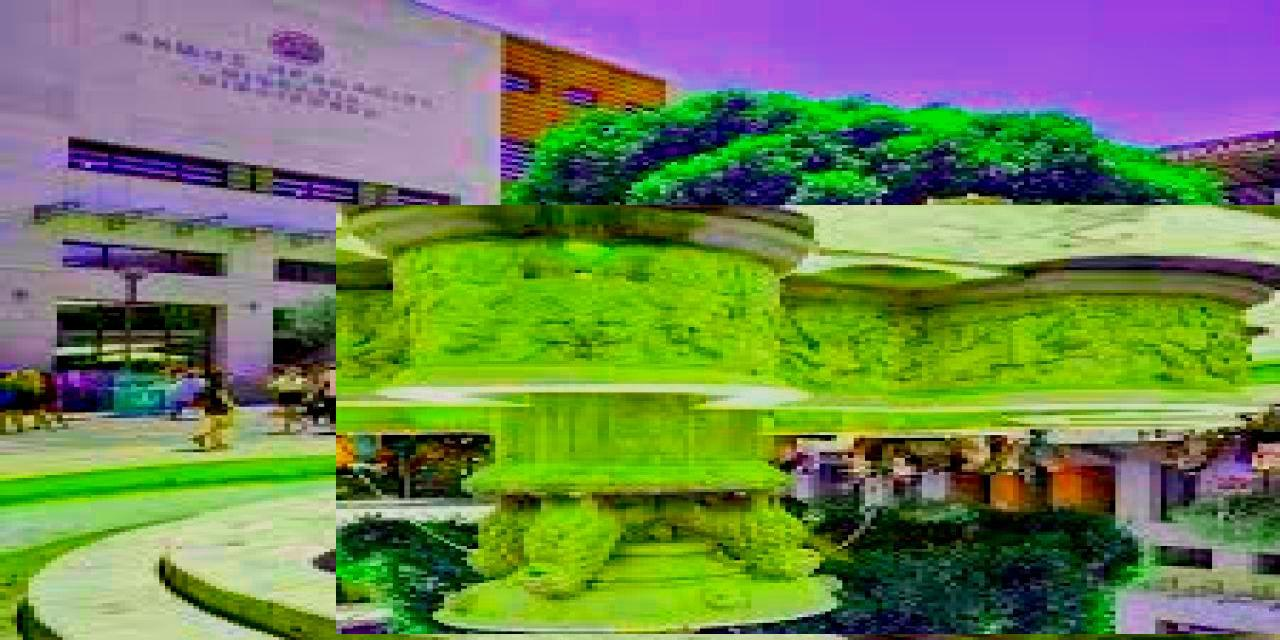Liontaria: (337, 206, 1280, 635)
